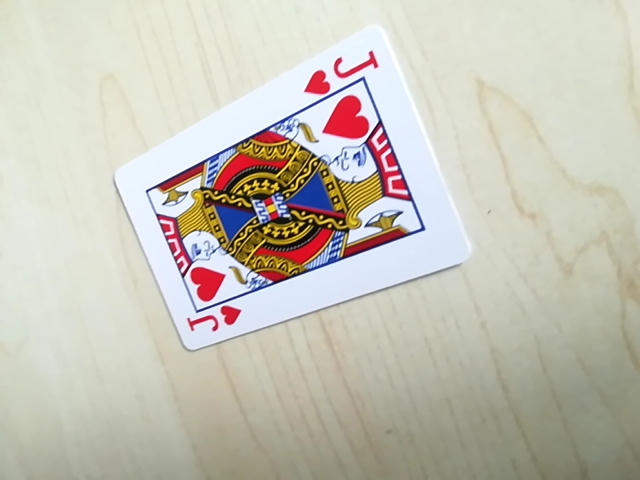hx j: (296, 43, 382, 99), (182, 302, 247, 343)
